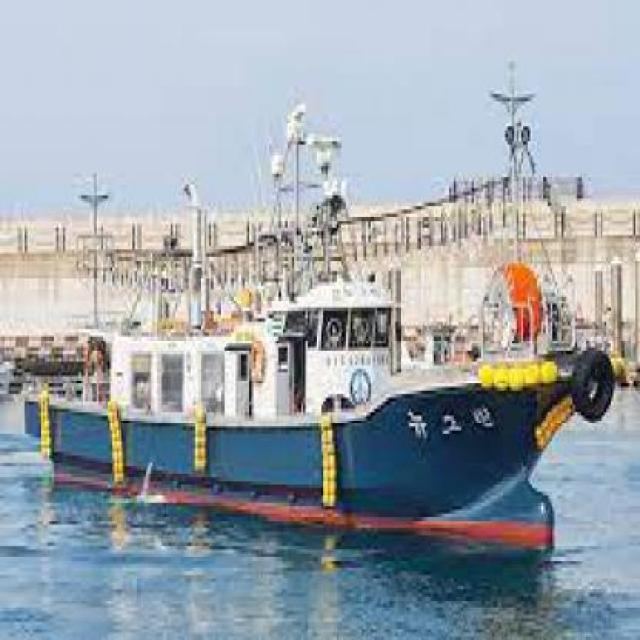fish-b: (19, 258, 621, 569)
